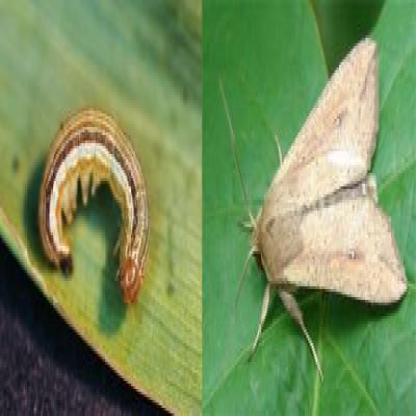armyworm: (235, 30, 415, 354), (37, 93, 152, 318)
